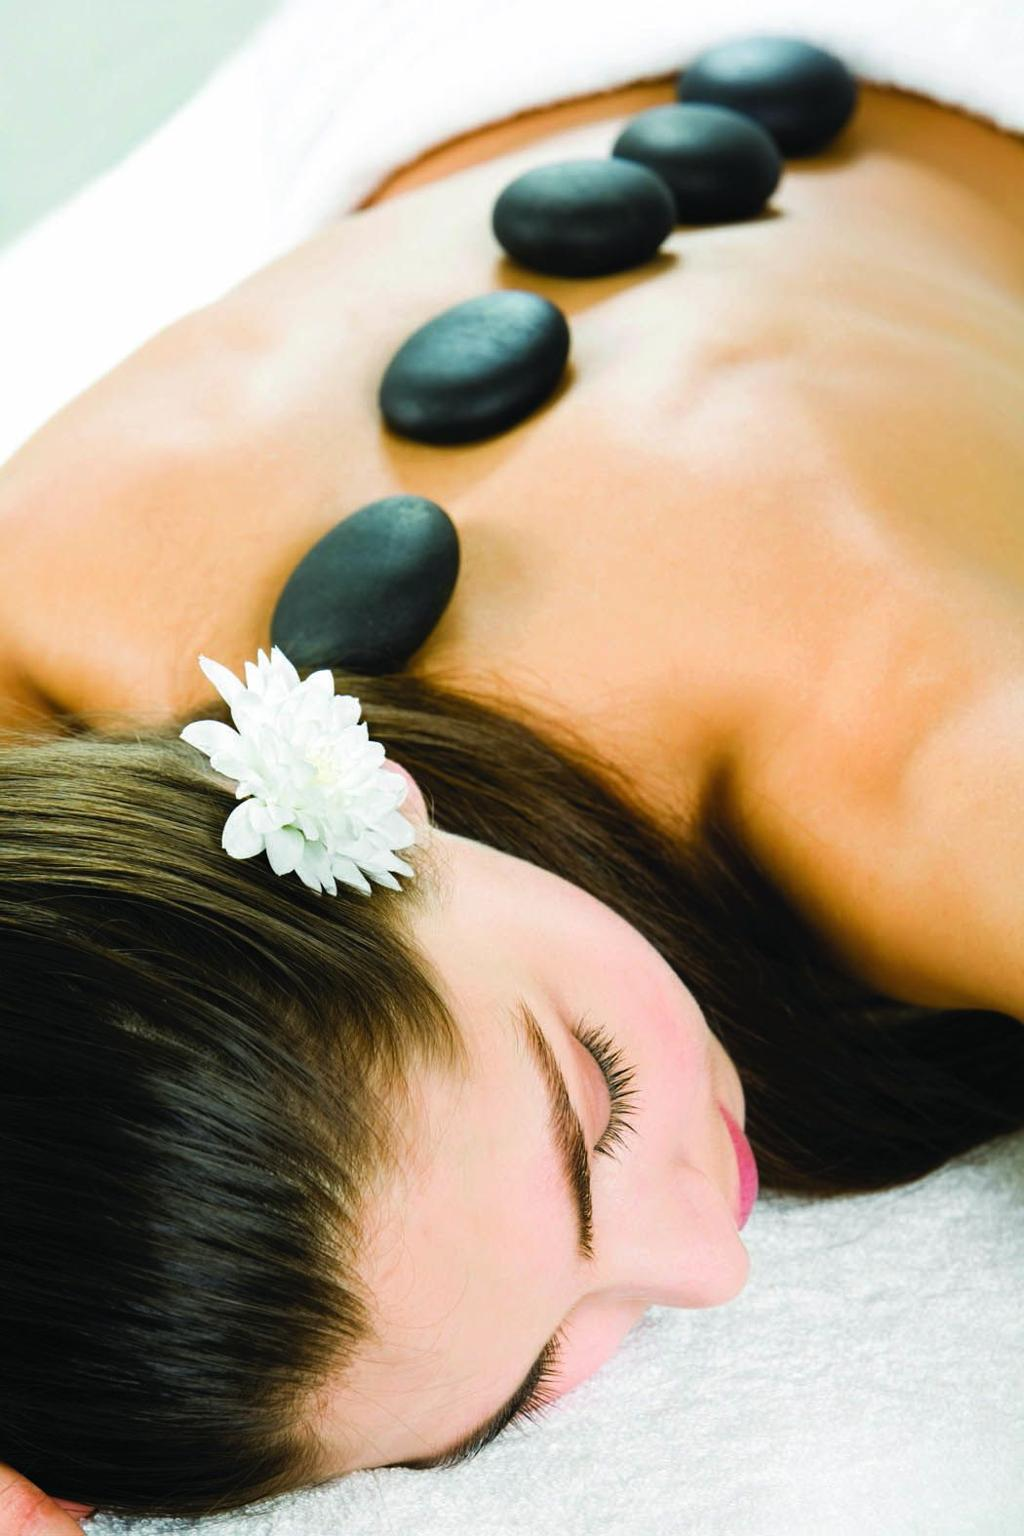face: (267, 955, 762, 1478)
